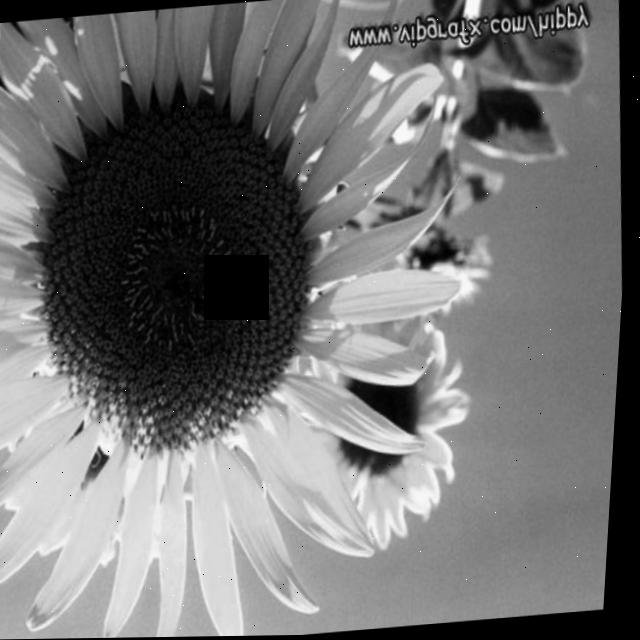sunflower: (0, 48, 519, 640)
